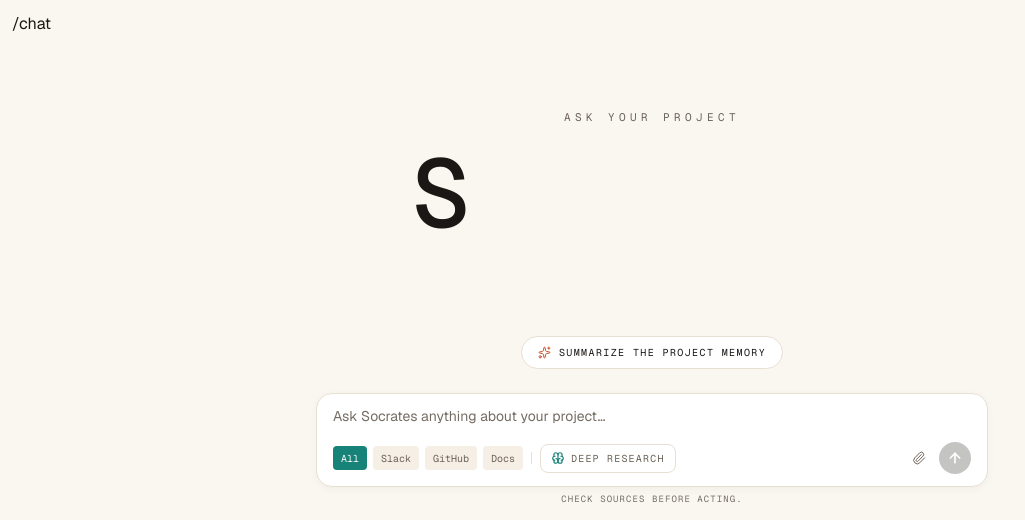
server-authoritative Socrates chat › [FIX-11][FIX-12][FIX-36] creates and streams the first request in one server round trip
Type "What changed in the launch plan?" into the text box with placeholder "Ask Socrates anything about your project…" at (652, 416), box x1=333 y1=406 x2=971 y2=427
Then press Enter
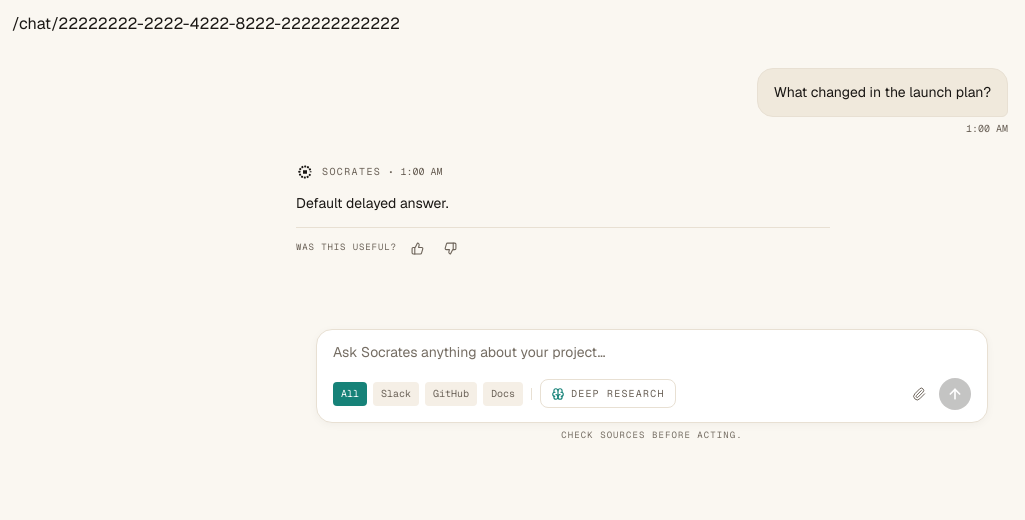
Now the text "Default delayed answer." is shown, box x1=296 y1=194 x2=448 y2=212
